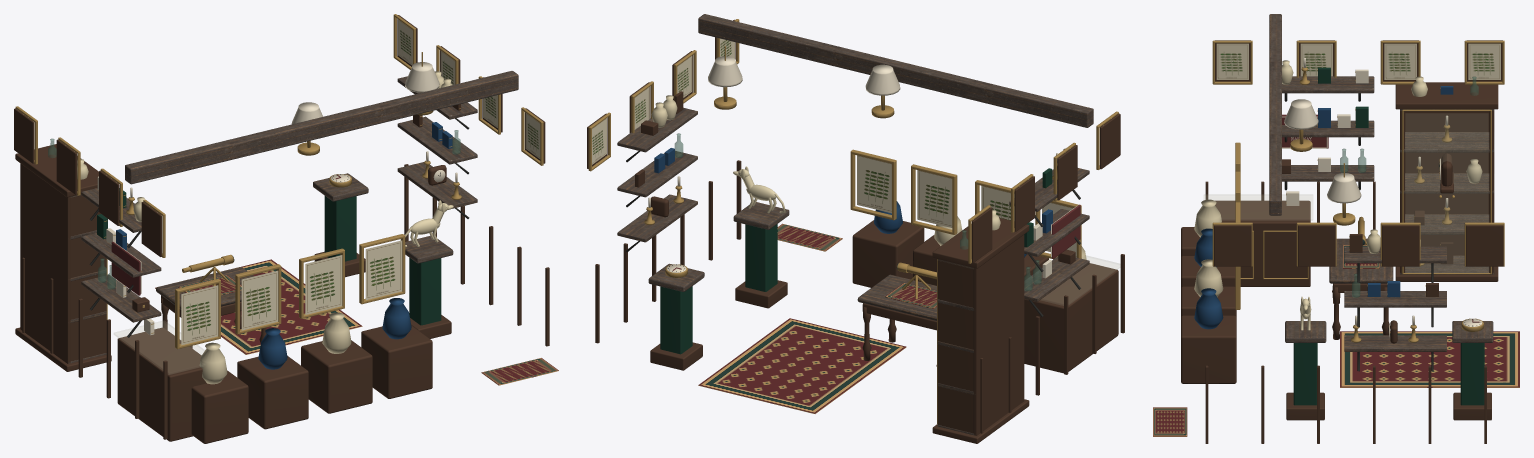
File: window.glb
3 views of the same model, side by side, from view 1: azimuth 30°, elevation 25°; view 2: azimuth 150°, elevation 25°; view 3: azimuth 270°, elevation 25° (orthographic).
Visible parts, largest first — view 1: Exposed oak beam, Cabinet back, Low cabinet body, Window display riser.002, Cabinet stile, Window display riser.001, Window display riser.003, Textile rug 0, Window display riser, Glazed cabinet top, Pedestal shaft, Window botanical (+28 smaller); view 2: Textile rug 0, Cabinet back, Exposed oak beam, Low cabinet body, Cabinet stile.001, Window display riser.003, Pedestal shaft, Pedestal shaft.001, Cabinet moulding.001, Window botanical.002, Window botanical.003, Table top (+27 smaller); view 3: Cabinet glass, Textile rug 0, Cabinet back, Low cabinet body, Window display riser.003, Exposed oak beam, Cabinet moulding.001, Glazed cabinet top, Cabinet shelf.003, Modular wall shelf.012, Picture backing.013, Picture backing.014 (+36 smaller).
Part boxes in pixels (left/top/right/bottom): Exposed oak beam: left=125, top=71, right=518, bottom=184; Cabinet back: left=20, top=163, right=70, bottom=363; Low cabinet body: left=117, top=327, right=206, bottom=441; Window display riser.002: left=301, top=340, right=372, bottom=413; Cabinet stile: left=71, top=195, right=106, bottom=361; Window display riser.001: left=237, top=356, right=308, bottom=429; Window display riser.003: left=361, top=325, right=432, bottom=398; Textile rug 0: left=155, top=259, right=362, bottom=354; Window display riser: left=191, top=370, right=248, bottom=443; Glazed cabinet top: left=114, top=321, right=204, bottom=374; Pedestal shaft: left=409, top=258, right=441, bottom=325; Window botanical: left=181, top=285, right=218, bottom=345; Textile rug 0: left=698, top=318, right=906, bottom=413; Cabinet back: left=973, top=235, right=1024, bottom=435; Exposed oak beam: left=698, top=14, right=1093, bottom=127; Low cabinet body: left=1024, top=263, right=1118, bottom=373; Cabinet stile.001: left=937, top=260, right=973, bottom=433; Window display riser.003: left=852, top=220, right=924, bottom=287; Pedestal shaft: left=745, top=224, right=777, bottom=291; Pedestal shaft.001: left=660, top=286, right=692, bottom=354; Cabinet moulding.001: left=932, top=217, right=1029, bottom=268; Window botanical.002: left=917, top=170, right=952, bottom=227; Window botanical.003: left=857, top=155, right=891, bottom=213; Table top: left=857, top=274, right=936, bottom=320; Cabinet glass: left=1405, top=113, right=1488, bottom=272; Textile rug 0: left=1340, top=331, right=1519, bottom=387; Cabinet back: left=1405, top=111, right=1494, bottom=255; Low cabinet body: left=1215, top=200, right=1310, bottom=286; Window display riser.003: left=1181, top=315, right=1236, bottom=383; Exposed oak beam: left=1269, top=14, right=1281, bottom=215; Cabinet moulding.001: left=1395, top=82, right=1498, bottom=109; Glazed cabinet top: left=1204, top=194, right=1312, bottom=220; Cabinet shelf.003: left=1400, top=132, right=1494, bottom=152; Modular wall shelf.012: left=1344, top=335, right=1446, bottom=351; Picture backing.013: left=1214, top=225, right=1251, bottom=266; Picture backing.014: left=1298, top=225, right=1335, bottom=266.
Bounding box in the file's own units: 5.17 × 3.31 × 4.28.
Materials: 19 (7 with a texture image).
